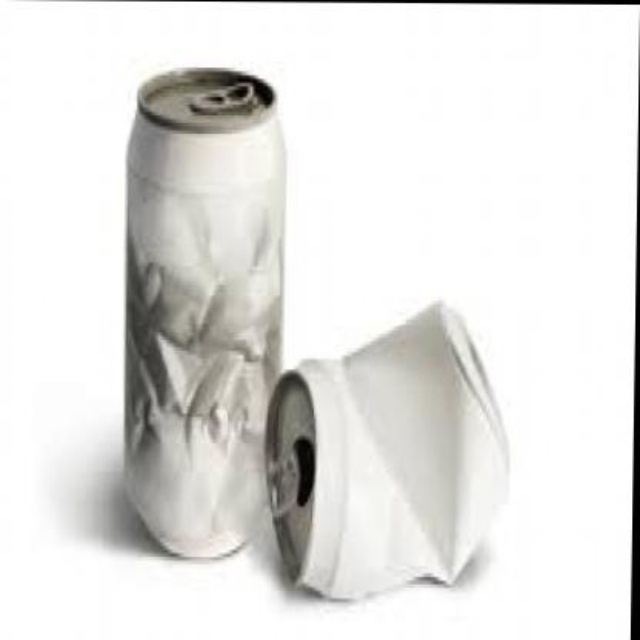trash: (125, 69, 283, 555), (266, 303, 508, 597)
